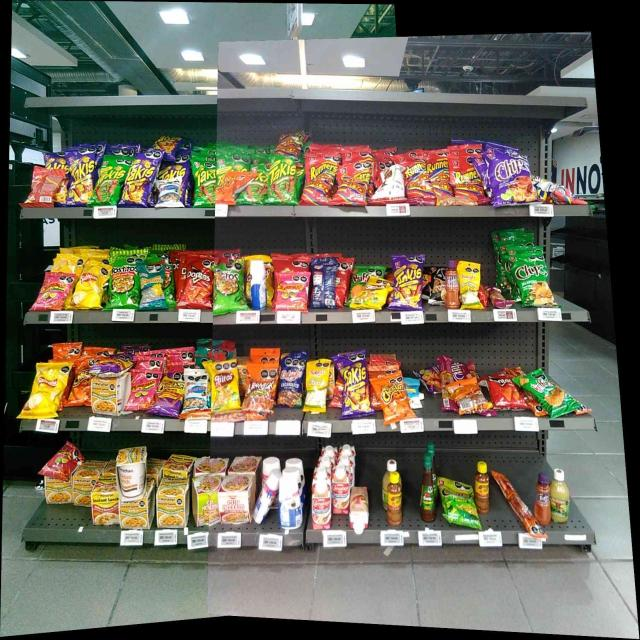bitzAlmendras: (408, 382, 419, 406)
bitzEnchilado95: (513, 484, 532, 532)
bitzHabanero: (486, 286, 511, 307), (438, 355, 454, 383)
bokadosCacahuates: (281, 362, 303, 406)
botaneraChilito: (387, 471, 403, 525), (476, 462, 490, 512)
cheetosFlaminHot: (159, 376, 183, 416)
cheetosOriginal: (381, 381, 406, 419), (74, 367, 91, 405)
chipsFuego: (490, 155, 529, 203)
chipsJalapeno: (517, 255, 548, 304)
chipsPapatinas: (443, 476, 475, 528)
churrumais: (279, 276, 306, 310), (42, 276, 66, 309), (48, 444, 72, 476), (132, 377, 154, 409)
delPrimoSalsa: (550, 468, 570, 524)
doritosNacho: (185, 266, 211, 306), (488, 377, 515, 406)
fritosLimon: (212, 367, 238, 412), (360, 284, 384, 309)
leoCacahuates: (186, 374, 207, 416), (159, 182, 180, 208)
leoMix: (246, 372, 273, 416)
maruchanPollo: (158, 480, 185, 526), (118, 447, 145, 483), (92, 378, 118, 415), (121, 498, 149, 529), (73, 467, 91, 505), (44, 478, 71, 502)
maruchanRes: (92, 484, 118, 524)
nestleCarnation: (311, 478, 331, 528), (350, 485, 370, 534), (332, 462, 349, 513)
nestleLechera: (278, 475, 303, 526), (253, 468, 277, 520), (250, 260, 266, 308)
nissinCamaron: (193, 472, 218, 526)
nissinRes: (219, 474, 250, 524)
popKarameladas: (429, 266, 444, 308)
productoAtras: (315, 262, 335, 308), (455, 384, 486, 411), (32, 170, 55, 205), (380, 170, 404, 202)
rufflesQueso: (527, 376, 566, 406), (352, 271, 370, 284)
runners: (307, 158, 337, 202), (340, 167, 370, 204), (456, 162, 481, 200), (430, 157, 452, 200), (405, 164, 428, 202), (277, 132, 302, 154)
sabritasOriginal: (30, 370, 58, 417), (76, 268, 102, 307)
salsaBufalo: (419, 451, 436, 523)
semillasCalabaza: (307, 364, 326, 411), (460, 267, 480, 308)
semillasGirasol: (141, 267, 162, 308)
tajinDulce: (444, 259, 460, 308), (535, 470, 549, 524)
takisFuego: (394, 256, 422, 310), (343, 364, 367, 416), (126, 163, 154, 207), (72, 148, 92, 197), (155, 134, 179, 153), (160, 166, 188, 180)
takisOriginal: (270, 156, 296, 205), (98, 164, 124, 205), (195, 166, 216, 206), (243, 177, 268, 203)
tostitos: (214, 264, 244, 312), (111, 260, 138, 304)
